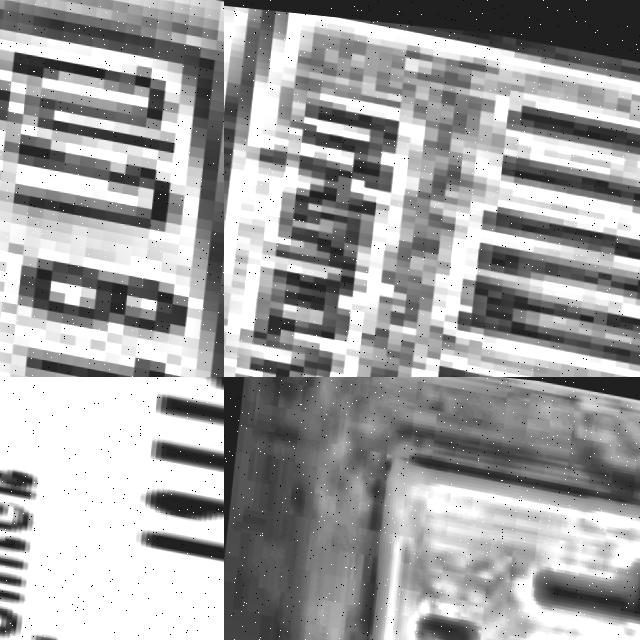license-plate: (224, 0, 640, 377), (0, 0, 224, 377), (313, 421, 640, 640), (0, 377, 224, 640)
